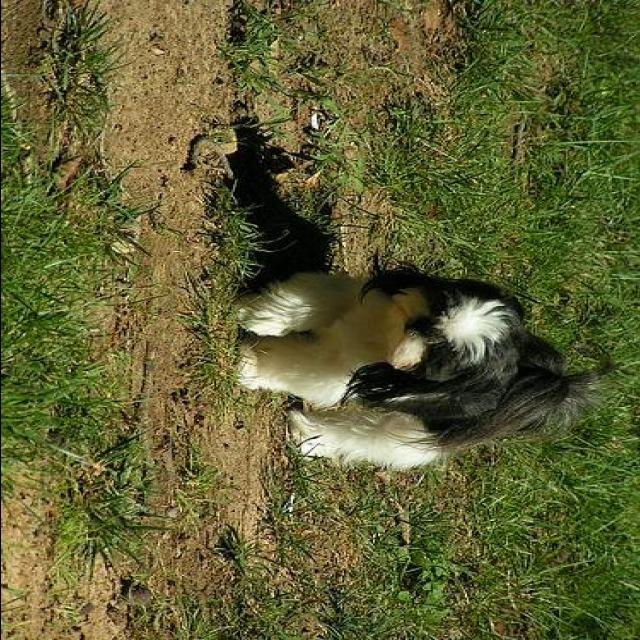shih_tzu: (232, 260, 616, 472)
